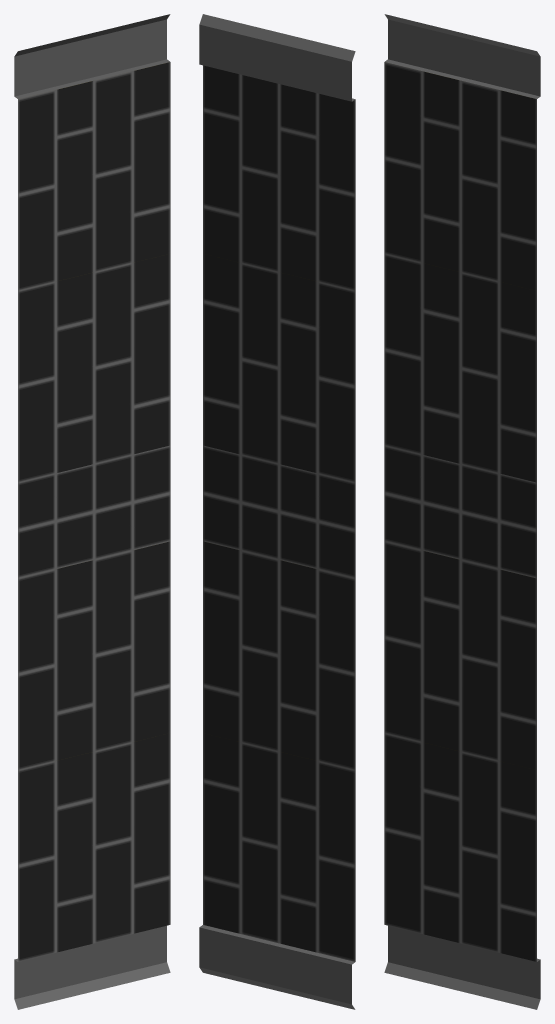
Rendered from SW_ENV_StationWall_A_0-5m.fbx.
3 renders of one model, left to right at view 1: azimuth 30°, elevation 25°; view 2: azimuth 150°, elevation 25°; view 3: azimuth 330°, elevation 25°, orthographic.
Parts seen in each view (by area): view 1: SW_ENV_StationWall_A_0-5m; view 2: SW_ENV_StationWall_A_0-5m; view 3: SW_ENV_StationWall_A_0-5m.
Boxes of the visible parts, x1,y1,x2,y2 form: SW_ENV_StationWall_A_0-5m: (14,14,170,1009); SW_ENV_StationWall_A_0-5m: (199,14,355,1009); SW_ENV_StationWall_A_0-5m: (384,14,540,1009).
Size of the model in its own units: 50 by 300 by 2.
